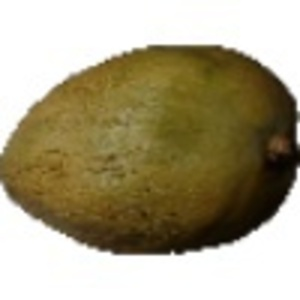mamão: (3, 28, 294, 269)
